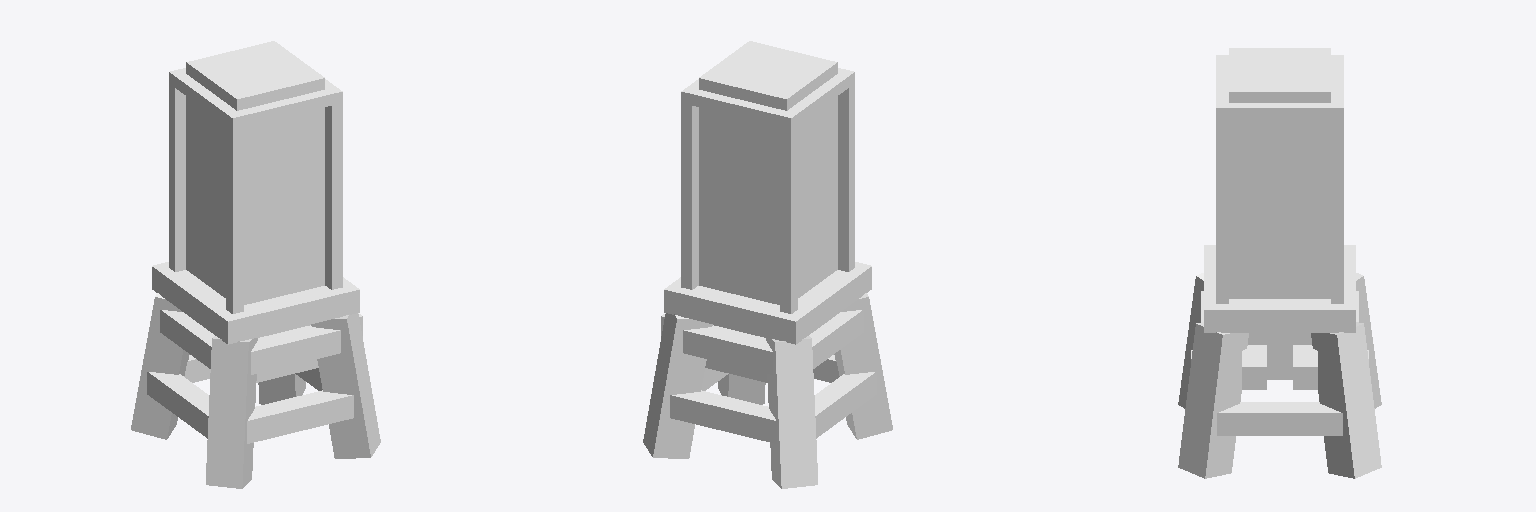
File: autolubricator.obj
The picture shows the model from 3 angles: view 1: azimuth 30°, elevation 25°; view 2: azimuth 150°, elevation 25°; view 3: azimuth 270°, elevation 25°; orthographic projection.
Parts seen in each view (by area): view 1: AutoLubricator_p4; view 2: AutoLubricator_p4; view 3: AutoLubricator_p4.
Part boxes in pixels (bbox=[...]): AutoLubricator_p4: bbox=[131, 41, 380, 488]; AutoLubricator_p4: bbox=[643, 41, 892, 488]; AutoLubricator_p4: bbox=[1178, 48, 1381, 478].
Size of the model in its own units: 0.9979 by 2.02 by 1.